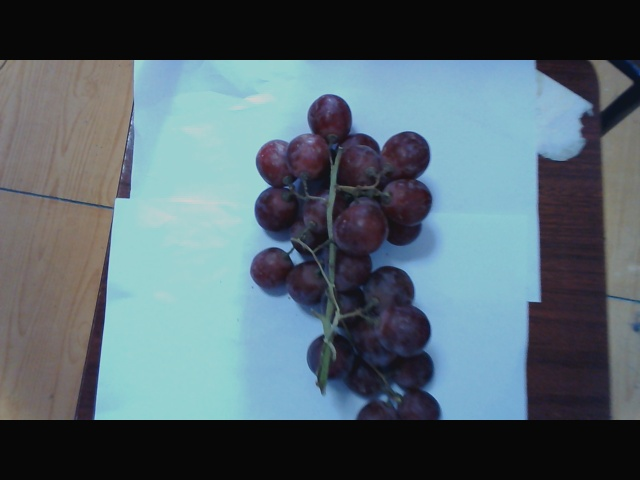grape: (232, 98, 460, 416)
